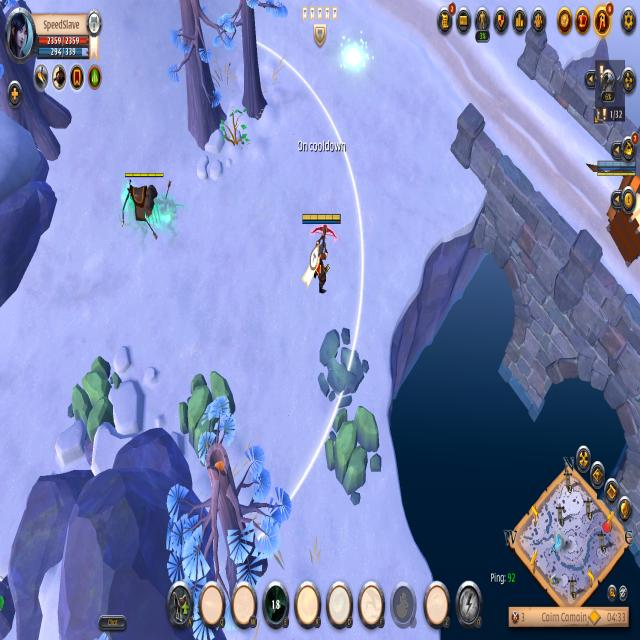red: (299, 207, 342, 298), (592, 153, 640, 189)
tree: (321, 403, 377, 507), (64, 352, 121, 450)
